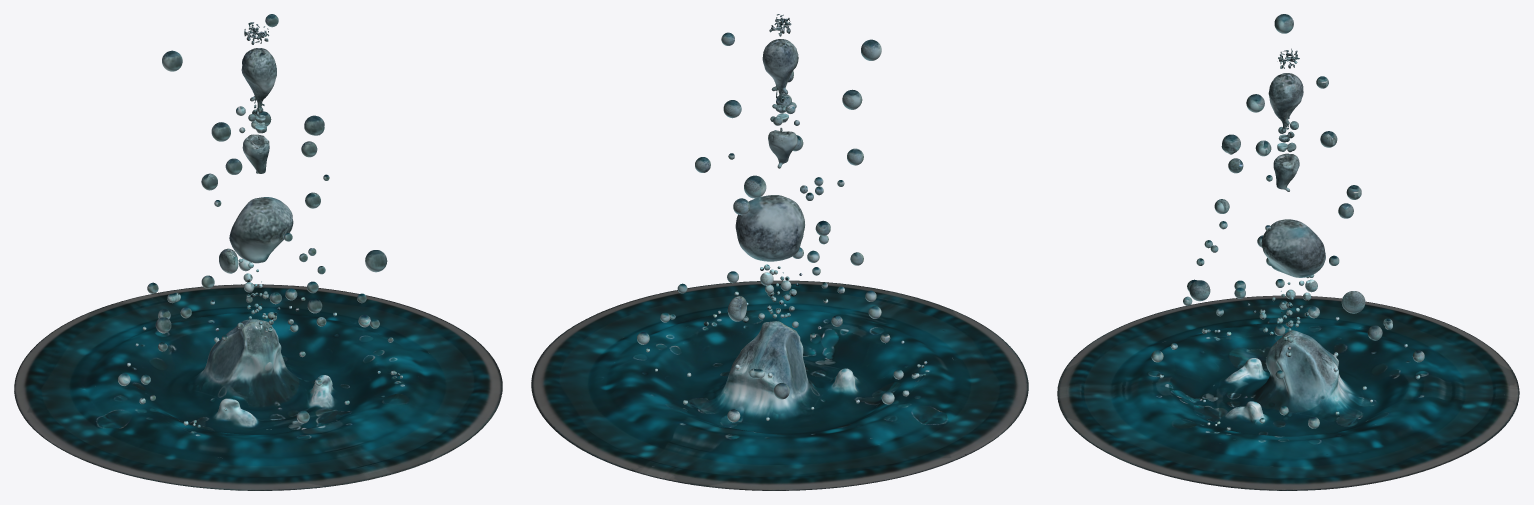
The model's file is water2.glb.
The picture shows the model from 3 angles, left to right: view 1: azimuth 30°, elevation 25°; view 2: azimuth 150°, elevation 25°; view 3: azimuth 270°, elevation 25°; orthographic projection. The views are drawn at different scales.
Size of the model in its own units: 1.9 by 1.69 by 1.9.
Materials: 1 (1 with a texture image).
